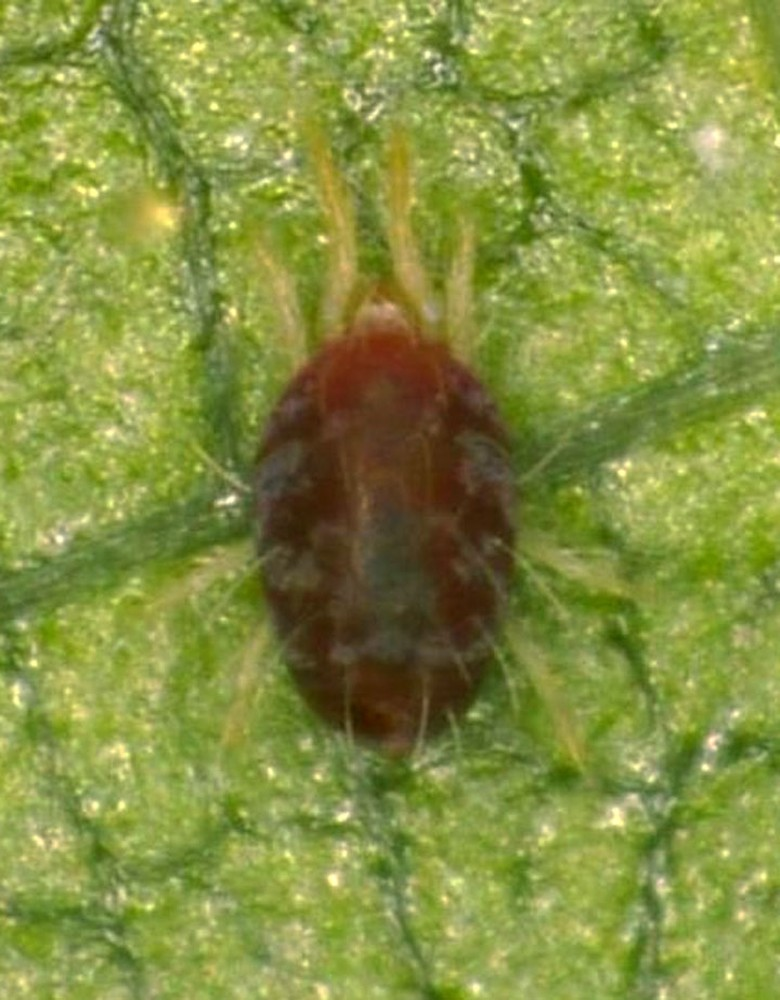Aracnido Rojo: (158, 108, 644, 791)
